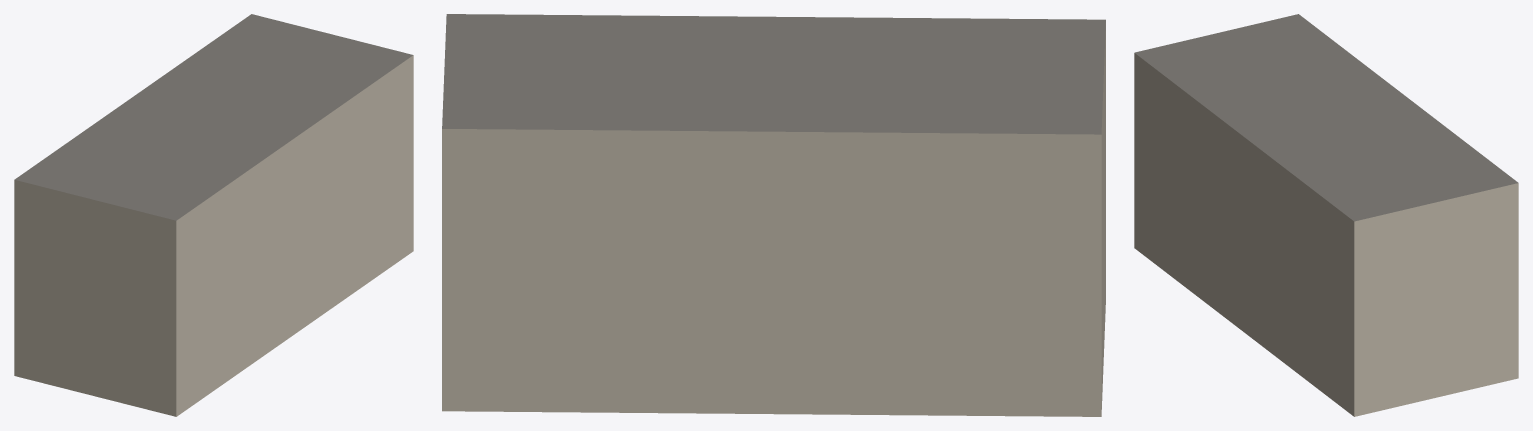
The picture shows the model from 3 angles, left to right: view 1: azimuth 30°, elevation 25°; view 2: azimuth 150°, elevation 25°; view 3: azimuth 270°, elevation 25°; orthographic projection. The views are drawn at different scales.
Visible parts, largest first — view 1: HP-w442026894; view 2: HP-w442026894; view 3: HP-w442026894.
Boxes of the visible parts, x1=… form: HP-w442026894: x1=14, y1=14, x2=413, y2=416; HP-w442026894: x1=442, y1=14, x2=1105, y2=416; HP-w442026894: x1=1134, y1=14, x2=1518, y2=416.
Bounding box in the file's own units: 41 × 18 × 32.1.
